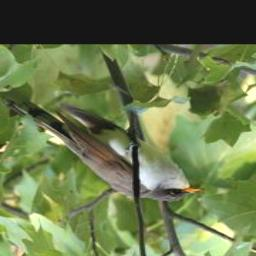Cuckoo: (0, 98, 199, 206)
